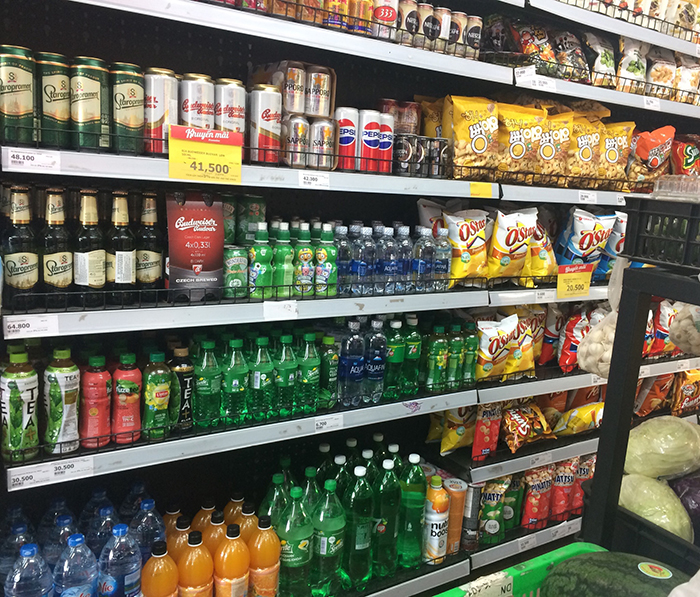333: (378, 7, 393, 19)
7up: (373, 516, 386, 535), (408, 344, 417, 356), (386, 346, 394, 359)
aquafina: (364, 362, 385, 373)
biastaropramen: (43, 76, 69, 107), (4, 254, 37, 278), (113, 86, 143, 112), (70, 80, 100, 105), (1, 71, 32, 94), (45, 254, 73, 277), (136, 252, 160, 270)
budweiser: (175, 214, 215, 226), (181, 98, 214, 110), (215, 103, 244, 112)
fuzetea: (115, 385, 139, 395)
lavie: (98, 580, 115, 595)
lipton: (153, 390, 170, 398)
nutriboost: (430, 518, 450, 537)
pepsi: (363, 122, 380, 150), (339, 120, 357, 146), (381, 125, 394, 151)
sapporo: (286, 135, 309, 147), (305, 88, 331, 97)
sprite: (329, 538, 343, 553), (280, 541, 294, 554), (305, 367, 320, 378)
teaplus: (24, 383, 36, 442), (182, 377, 192, 419), (64, 374, 79, 381)
wonderfarm: (224, 256, 246, 285)
